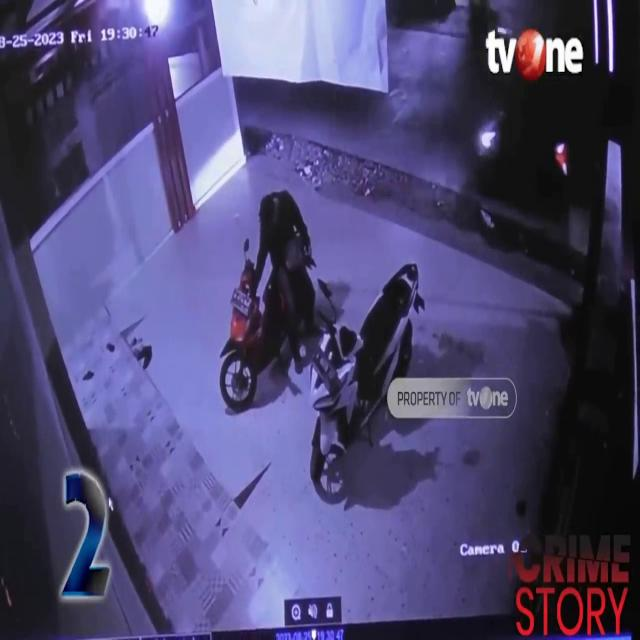pencurian: (223, 190, 317, 396)
